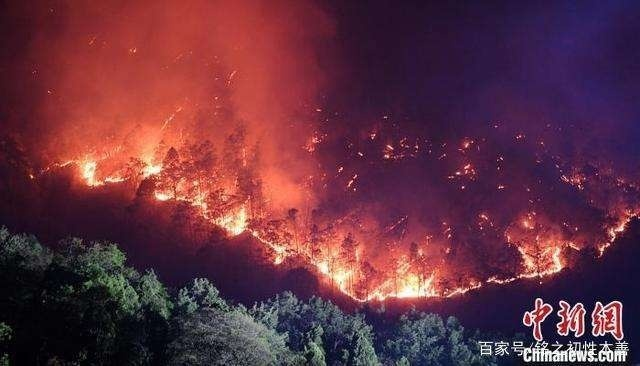fire: (17, 111, 603, 328)
